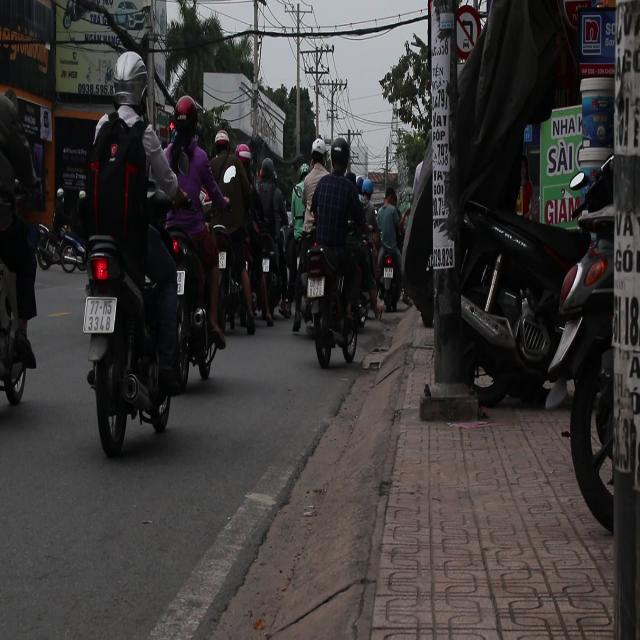motorbike: (85, 229, 175, 451), (296, 234, 365, 369), (377, 241, 403, 313)
